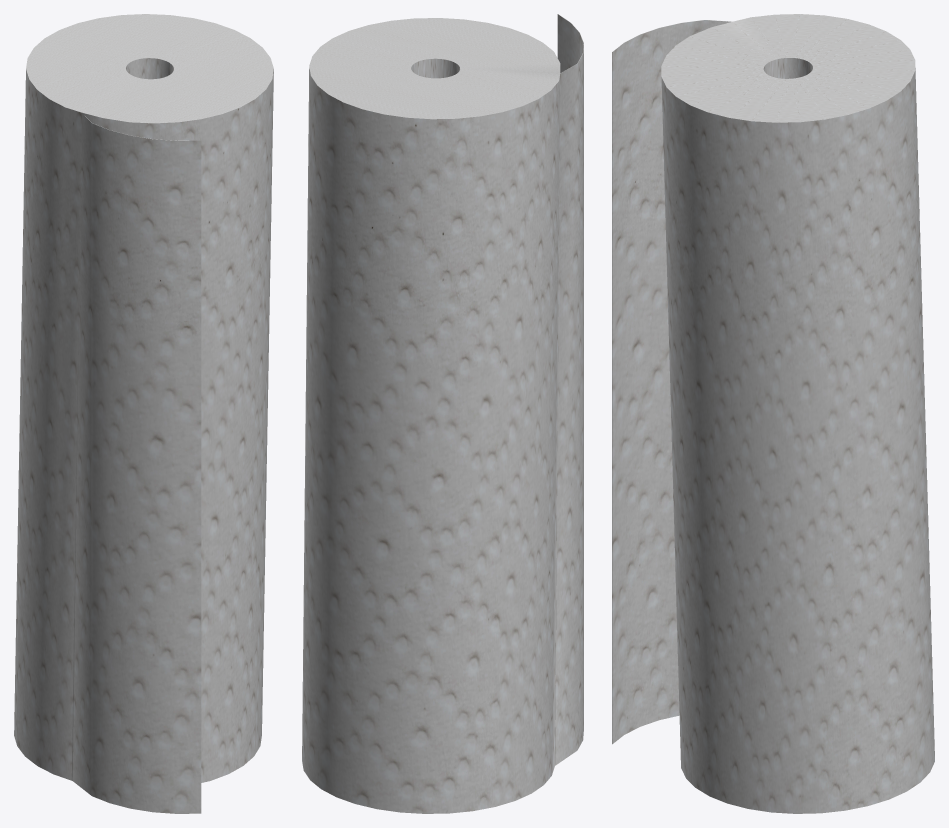
Rendered from Kitchen roll.fbx.
The picture shows the model from 3 angles, left to right: view 1: azimuth 30°, elevation 25°; view 2: azimuth 150°, elevation 25°; view 3: azimuth 270°, elevation 25°; orthographic projection. The views are drawn at different scales.
Visible parts, largest first — view 1: kitchen roll; view 2: kitchen roll; view 3: kitchen roll.
Boxes of the visible parts, <box> form: kitchen roll: <box>14,14,273,813</box>; kitchen roll: <box>302,14,583,813</box>; kitchen roll: <box>612,14,934,813</box>.
Size of the model in its own units: 6.63 by 19.88 by 8.33.
Materials: 1 (1 with a texture image).
